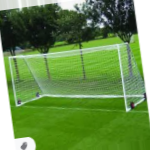goals: (7, 41, 146, 111)
